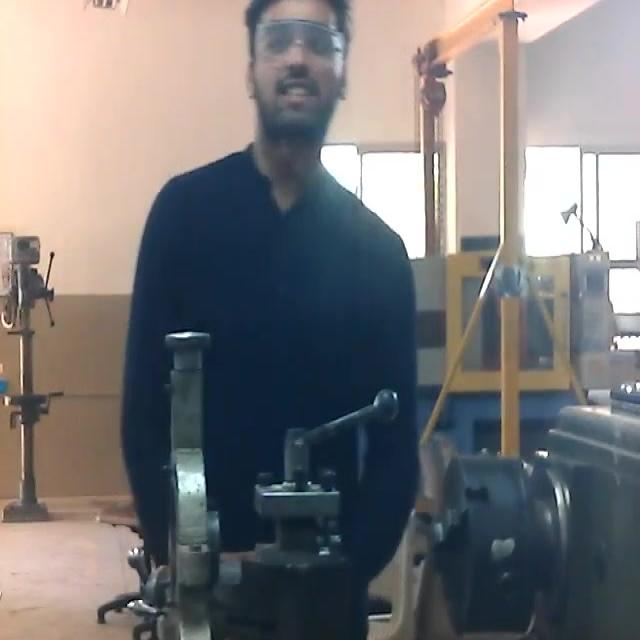googles: (253, 15, 345, 73)
